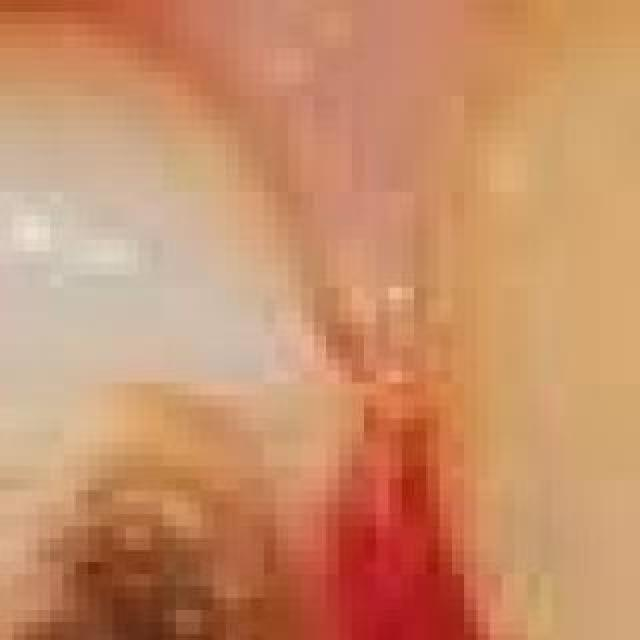cavities: (0, 262, 552, 640)
